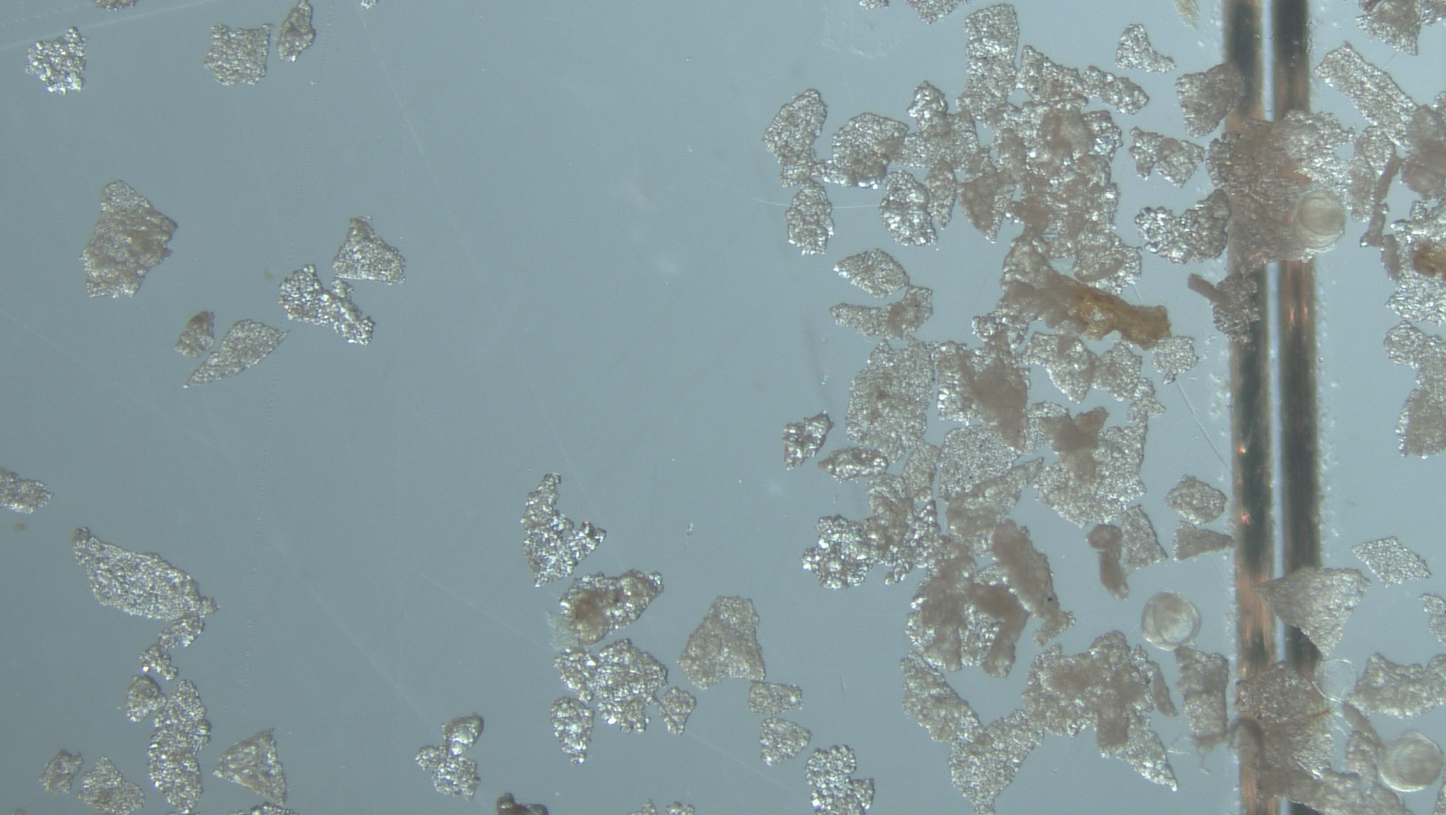dead: (1314, 660, 1356, 704)
live: (1380, 732, 1443, 792), (1141, 592, 1200, 651), (1295, 190, 1346, 244)
